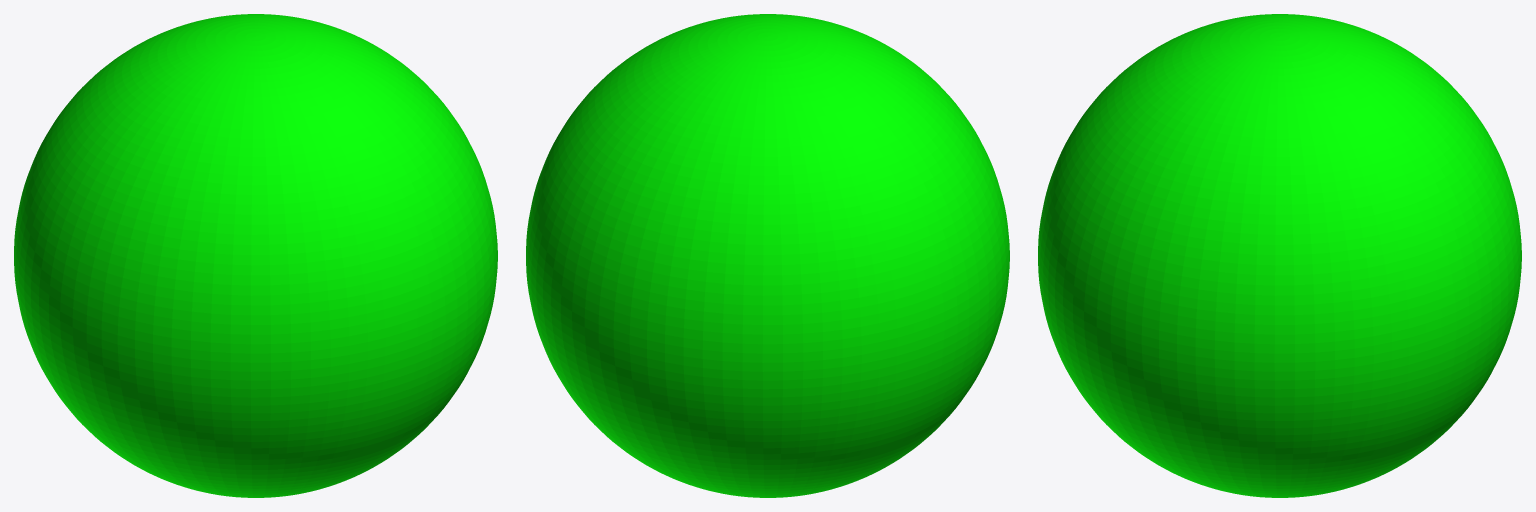
The model's file is buoy.dae.
The picture shows the model from 3 angles, left to right: view 1: azimuth 30°, elevation 25°; view 2: azimuth 150°, elevation 25°; view 3: azimuth 270°, elevation 25°; orthographic projection.
Parts seen in each view (by area): view 1: Sphere; view 2: Sphere; view 3: Sphere.
Boxes of the visible parts, box(x1,y1,x2,y2) form: Sphere: box(14, 14, 497, 497); Sphere: box(526, 14, 1009, 497); Sphere: box(1038, 14, 1521, 497).
Size of the model in its own units: 0.3681 by 0.3681 by 0.3683.
